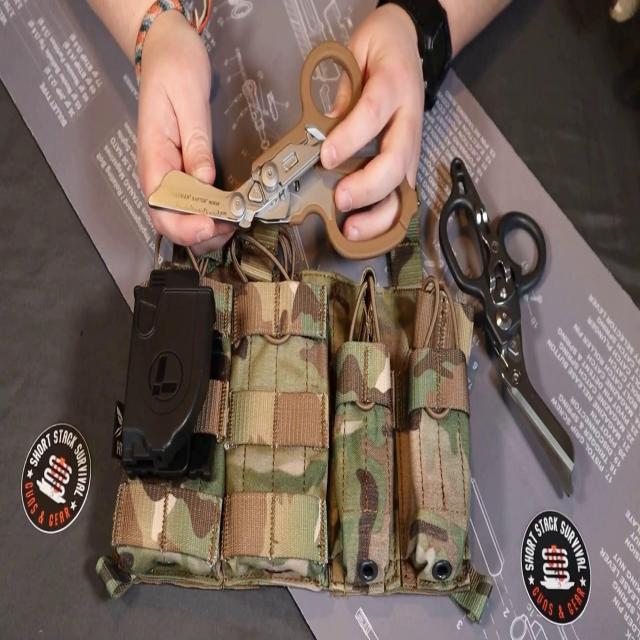scissor: (146, 37, 420, 261), (438, 156, 575, 497)
